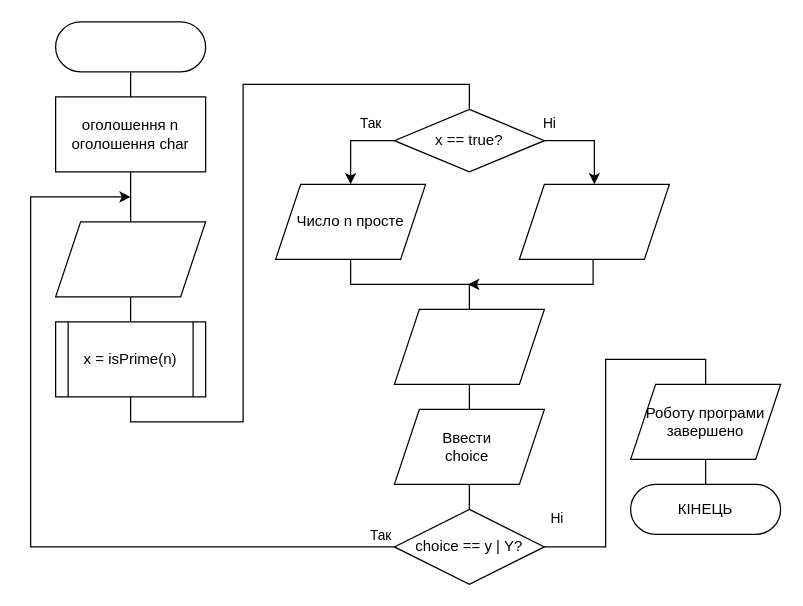
Some shapes in this 803 by 606 pixel diagram are drawn without their labels. The box of each missing label's shape, as (x1, y1, x2, y2) in pixels:
введіть ціле число n: (54, 221, 206, 297)
Перевірити ще одне число? (y/n): (393, 308, 544, 384)
ПОЧАТОК: (54, 21, 206, 72)
Число n НЕ просте: (518, 183, 669, 259)
